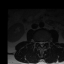CCS_normal: (41, 39, 42, 49)
LFS_normal: (45, 38, 47, 45)
LLS_normal: (42, 39, 45, 46)
RFS_stenosis: (37, 39, 39, 45)
RLS_normal: (39, 39, 41, 46)
